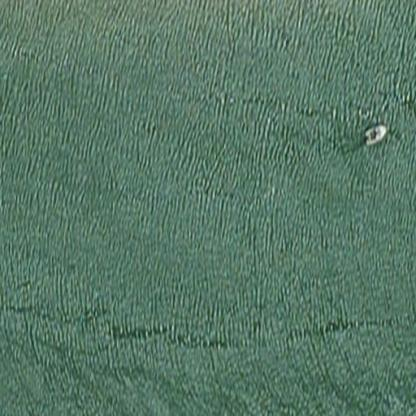ship: (358, 119, 391, 147)
